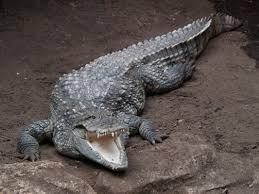Crocodile: (17, 14, 242, 172)
